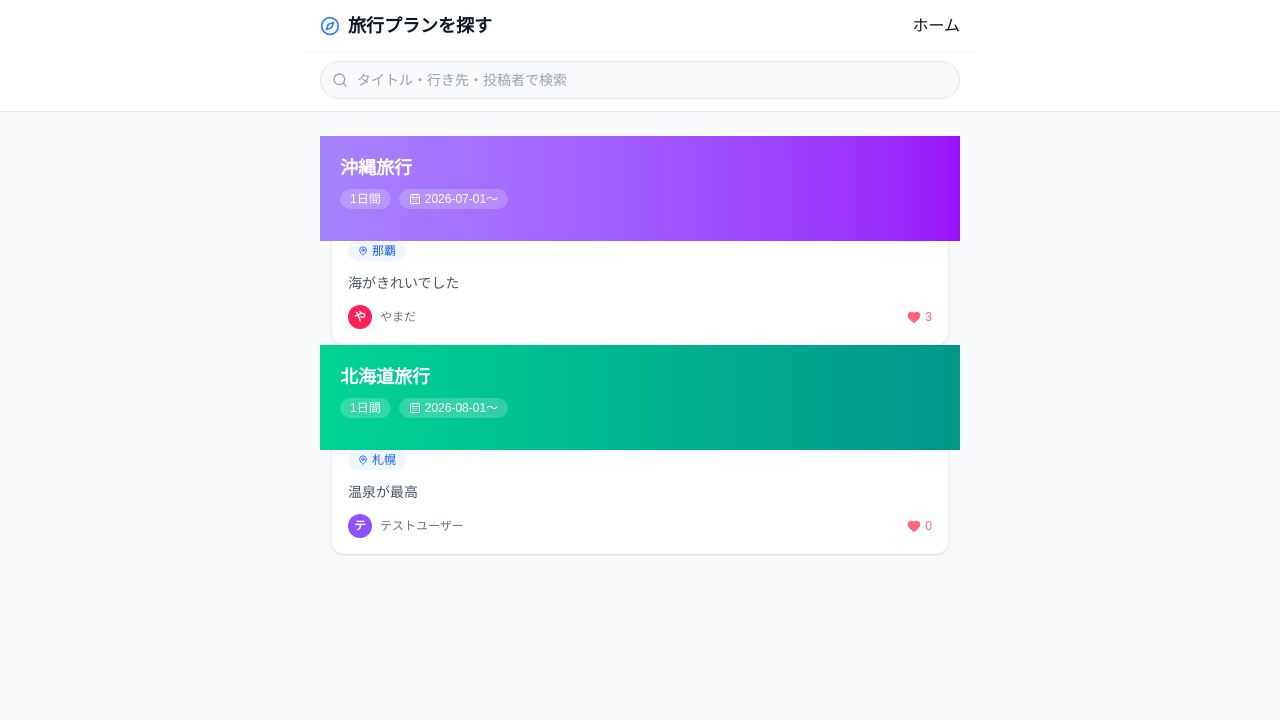
Test: FeedPage › 検索でタイトルによるフィルタリングができる
Check: the heading "沖縄旅行" is shown, box top-left (340, 158), bottom-right (412, 178)
Type "沖縄" into the field with placeholder "タイトル・行き先・投稿者で検索".
click(640, 80); type("沖縄")  # box top-left (320, 61), bottom-right (960, 99)
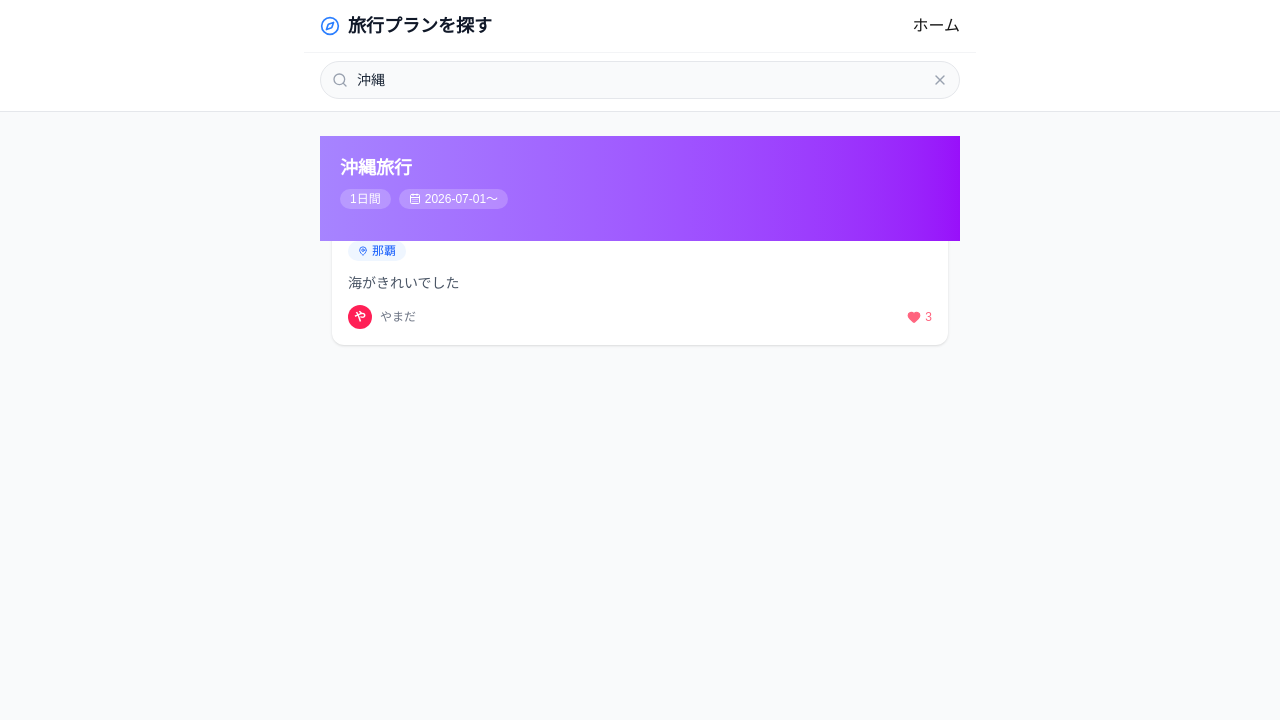
Check: the heading "沖縄旅行" is shown, box top-left (340, 158), bottom-right (412, 178)
Check: the link "北海道旅行" is gone
